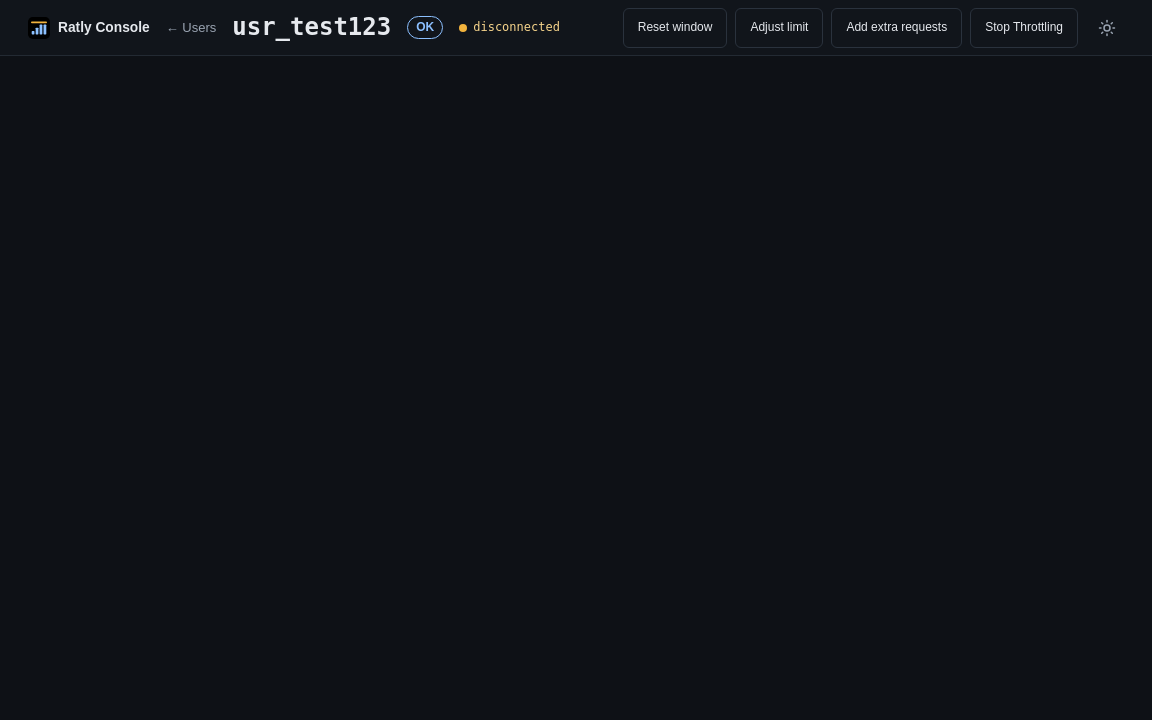
Test: UserDetailHeader › opens ResetWindowModal when Reset window button clicked
Click the button "Reset window".
click(675, 28)  # box [623,8,727,48]
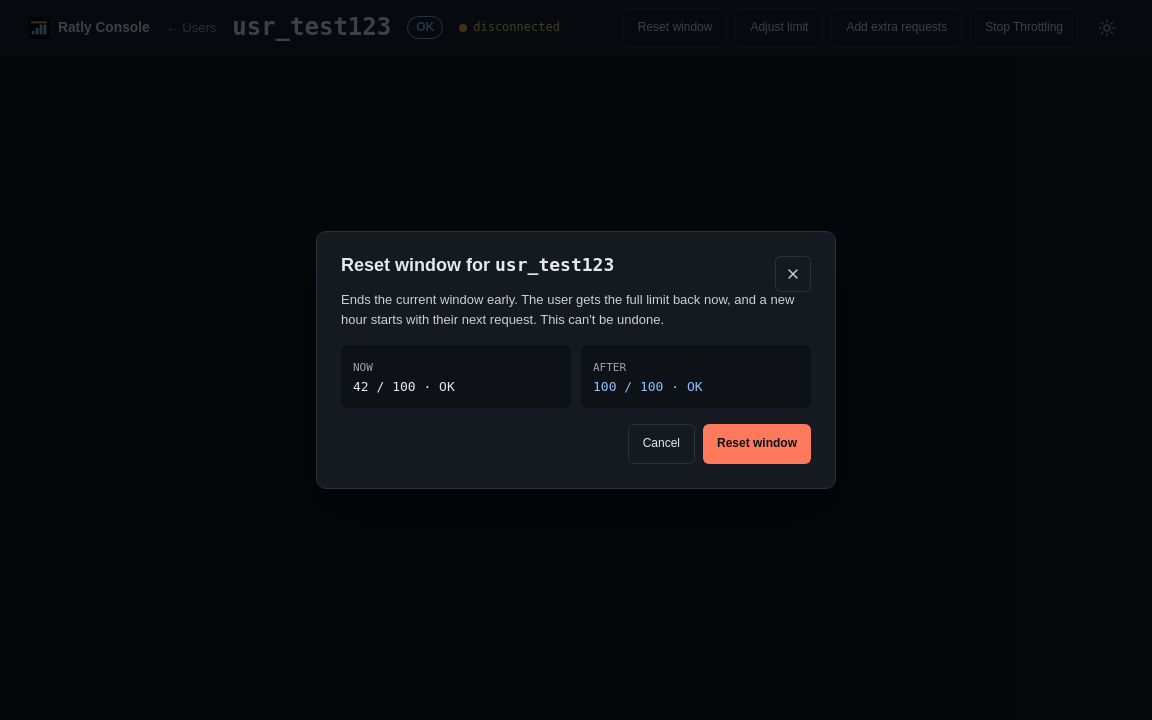
Now the heading with test id "modal-title" shows "Reset window for", box [341,255,490,275]
